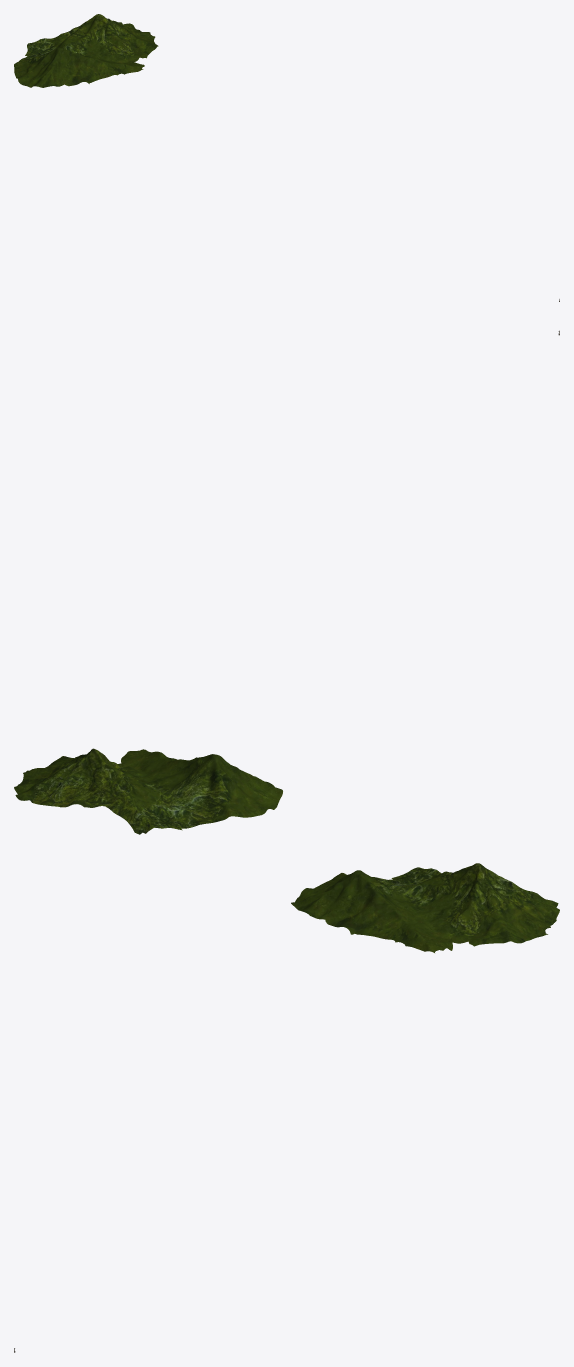
Rendered from backdrop_v2.glb.
3 renders of one model, top to bottom at view 1: azimuth 30°, elevation 25°; view 2: azimuth 150°, elevation 25°; view 3: azimuth 330°, elevation 25°, orthographic. The views are drawn at different scales.
Visible parts, largest first — view 1: double_mountain_island_bg.001; view 2: double_mountain_island_bg.001; view 3: double_mountain_island_bg.001.
Boxes of the visible parts, box(x1,y1,x2,y2) form: double_mountain_island_bg.001: box(14, 14, 158, 87); double_mountain_island_bg.001: box(14, 748, 282, 834); double_mountain_island_bg.001: box(291, 863, 559, 952).
Size of the model in its own units: 1637 by 282 by 6499.
3 materials, 2 textured.
